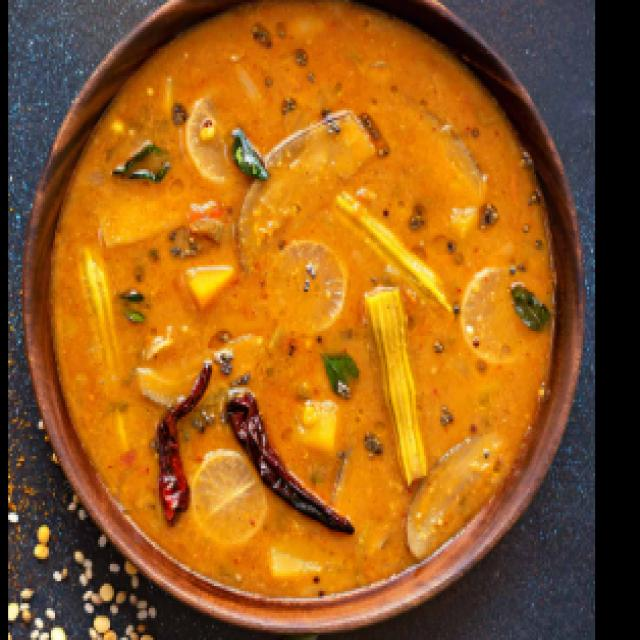sambar: (59, 10, 504, 523)
